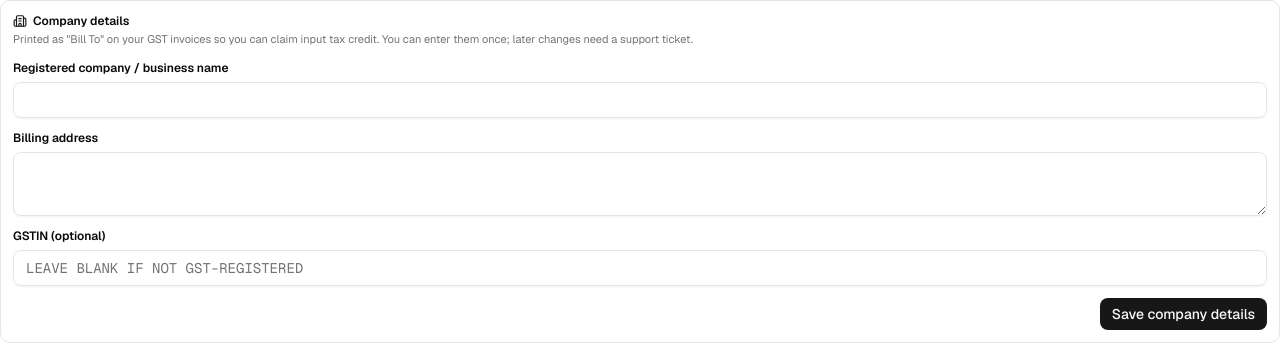
Test case: CompanyDetailsSection › submits the company details once through PATCH /users/me
Type "Acme Traders" into the field with test id "profile.company-details.legal-name" at point(640, 100), box x1=13 y1=82 x2=1267 y2=118
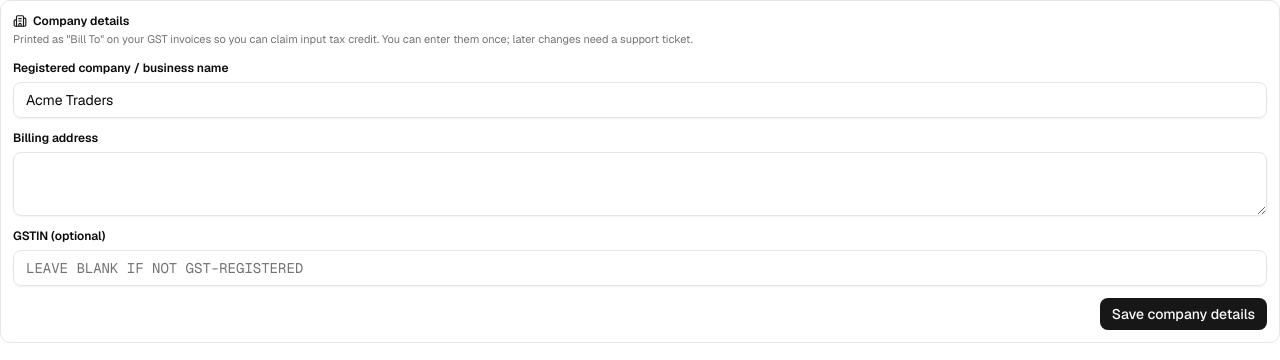
Type "12 MG Road, Bengaluru 560001" into the text box with test id "profile.company-details.billing-address" at point(640, 184), box x1=13 y1=152 x2=1267 y2=216
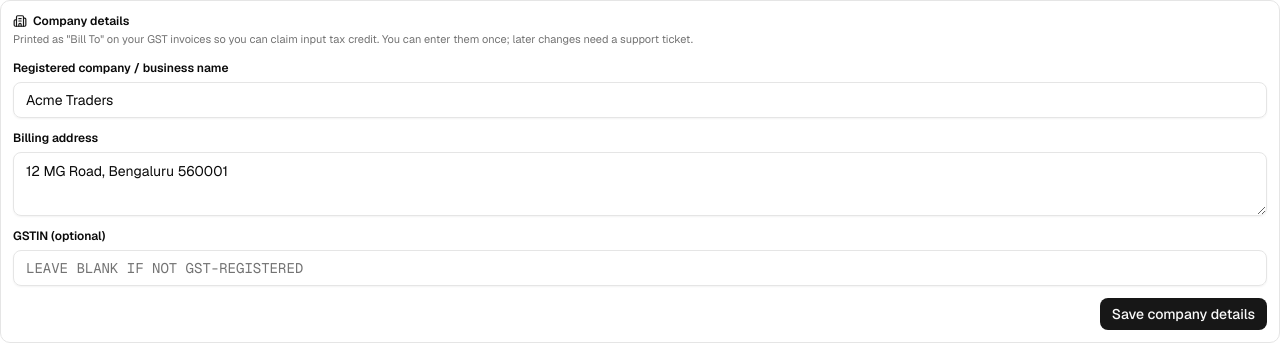
Type "29AAGCB7383J1Z4" into the field with test id "profile.company-details.gstin-input" at point(640, 268), box x1=13 y1=250 x2=1267 y2=286
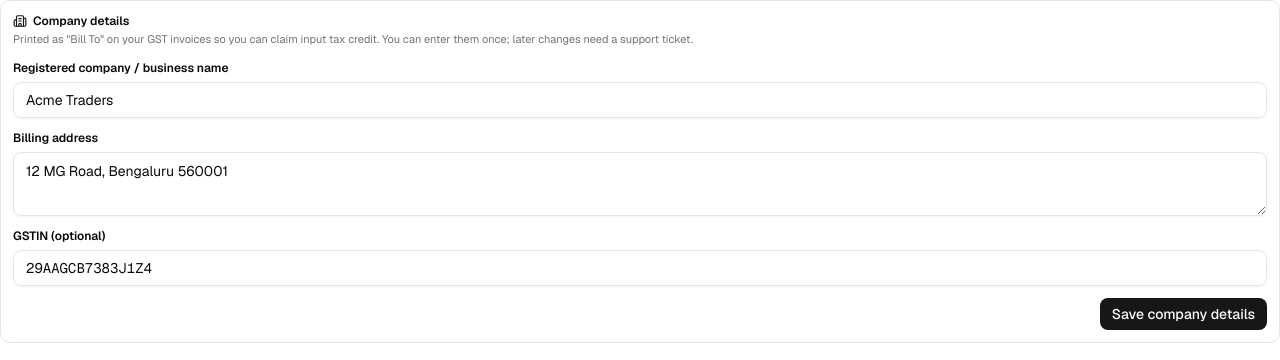
Click the button with test id "profile.company-details.save" at point(1183, 314), box x1=1100 y1=298 x2=1267 y2=330
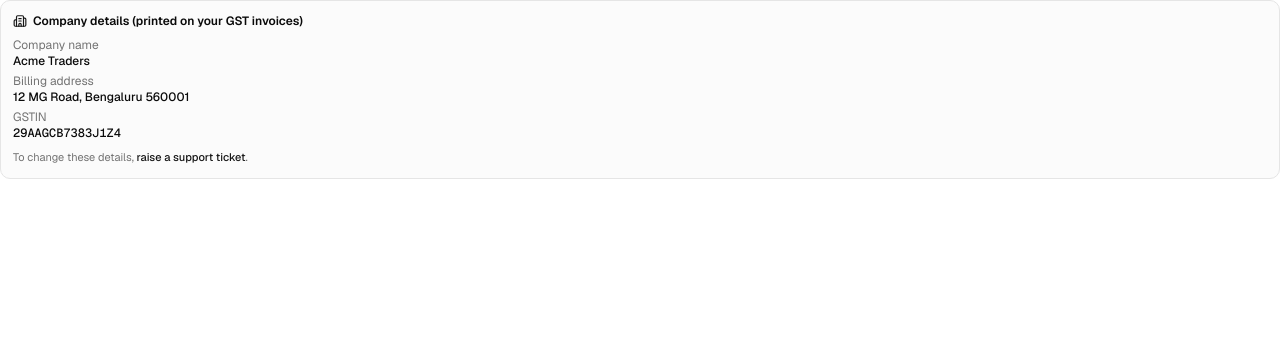
Expected: the element with test id "profile.company-details.view" is shown, x1=0 y1=0 x2=1279 y2=178
Expected: the text with test id "profile.company-details.gstin" reads "29AAGCB7383J1Z4", x1=13 y1=125 x2=121 y2=141
